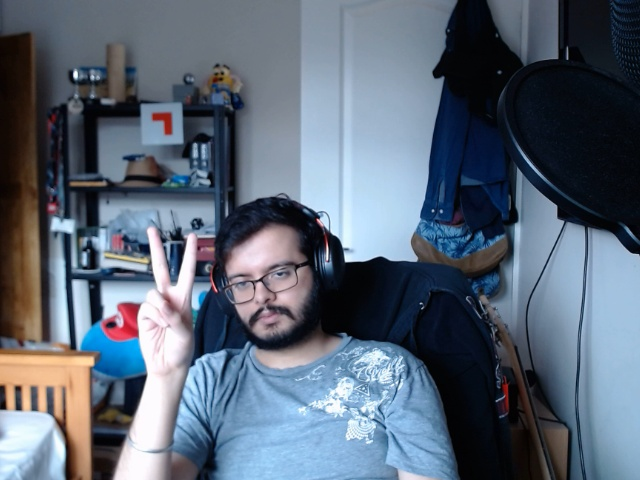Peace: (133, 217, 204, 381)
